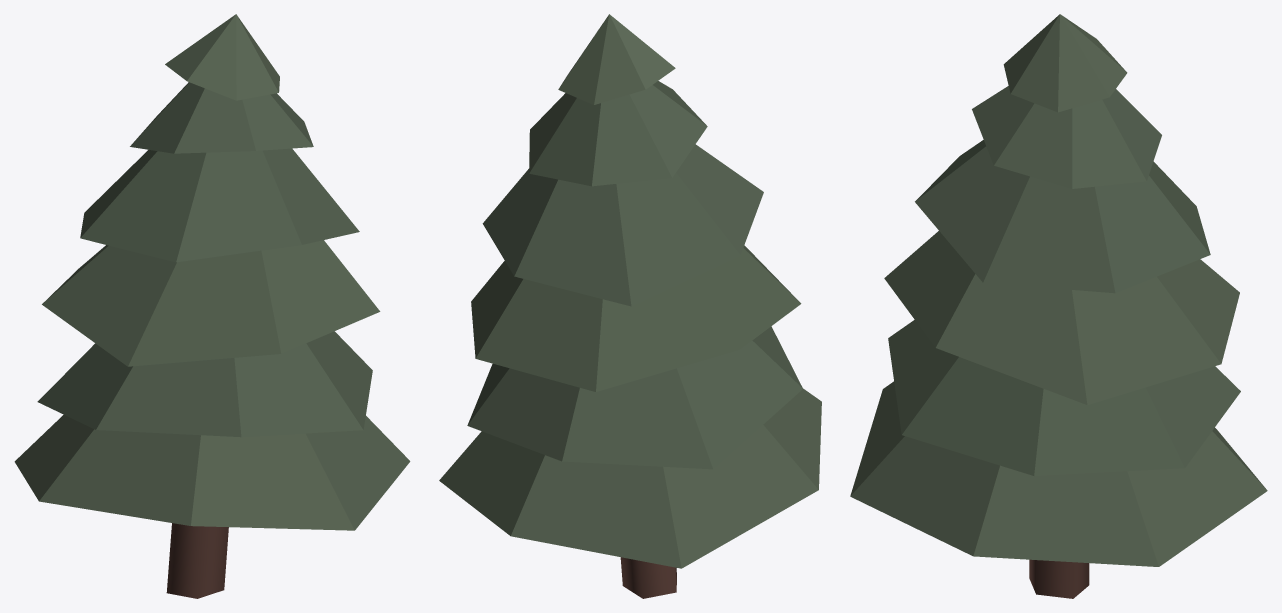
The model's file is FirTree_3.fbx.
3 views of the same model, side by side, from view 1: azimuth 30°, elevation 25°; view 2: azimuth 150°, elevation 25°; view 3: azimuth 270°, elevation 25° (orthographic). The views are drawn at different scales.
Parts seen in each view (by area): view 1: FirTree2; view 2: FirTree2; view 3: FirTree2.
Part boxes in pixels (x1,y1,x2,y2): FirTree2: [14, 14, 410, 598]; FirTree2: [439, 14, 821, 598]; FirTree2: [850, 14, 1267, 598].
Bounding box in the file's own units: 453 × 726 × 461.
